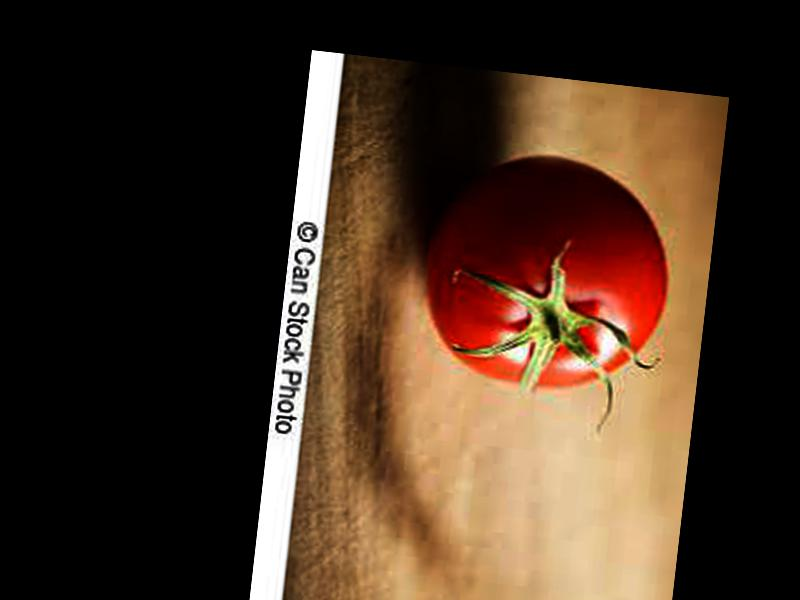Tomato: (416, 146, 676, 402)
